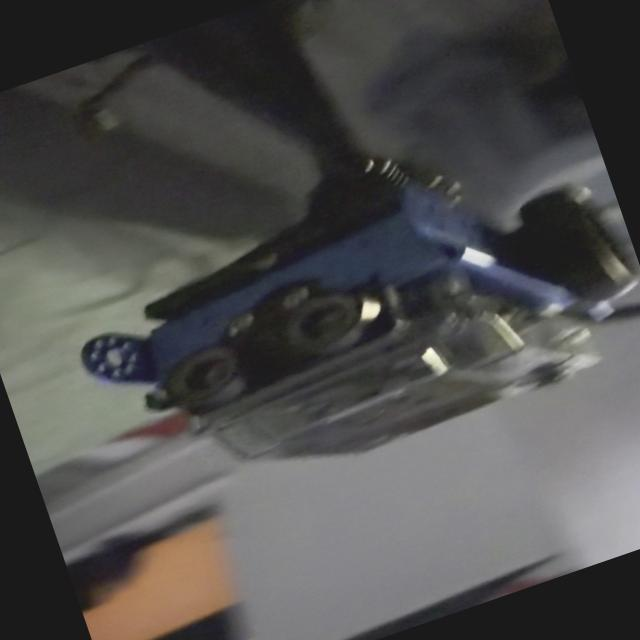mbot-detection: (47, 113, 640, 540)
